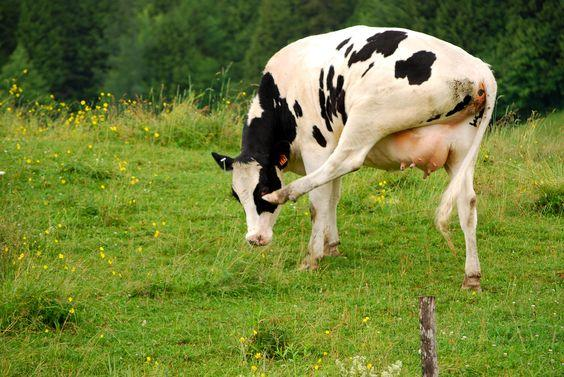cow: (170, 12, 508, 282)
